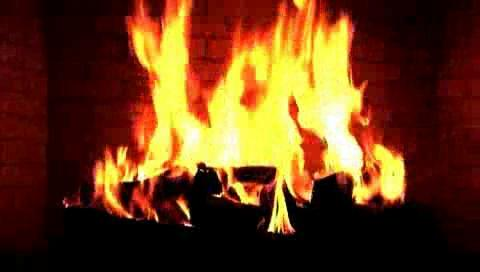fire: (96, 0, 439, 231)
